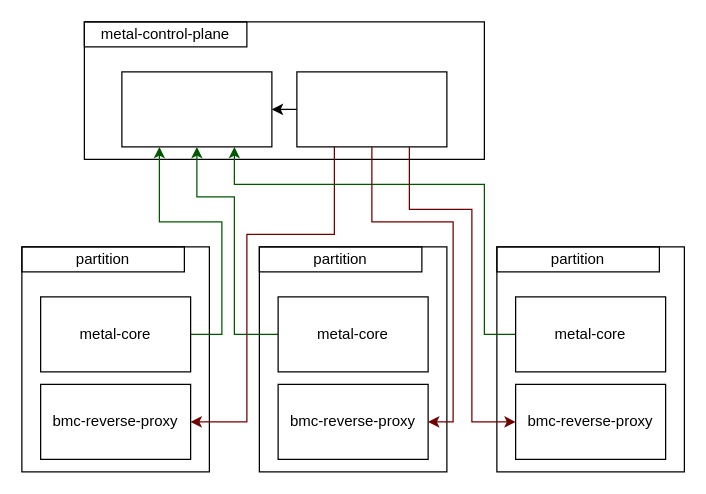
Some shapes in this 706 by 494 pixel diagram are drawn without their labels. Here are the shapes that lost their labels. From the top down, the centre of each, then its label:
[196,109]: metal-api / nsq
[371,109]: metal-console
